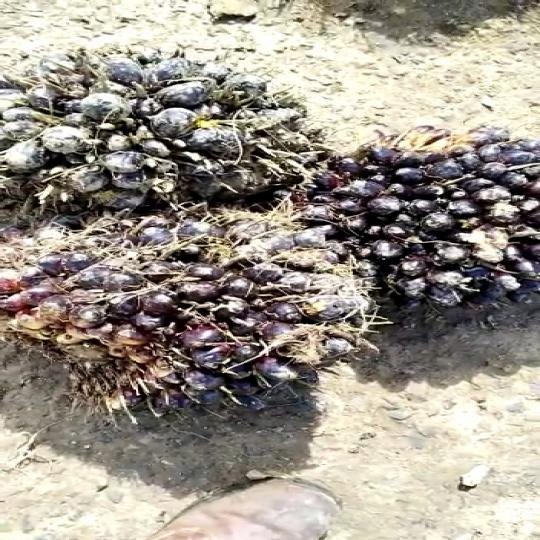mentah: (0, 224, 390, 430), (0, 59, 316, 213), (314, 119, 540, 318)
